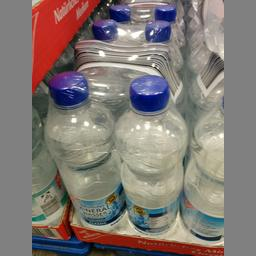water: (42, 71, 124, 231), (114, 71, 185, 233), (182, 84, 222, 242)
